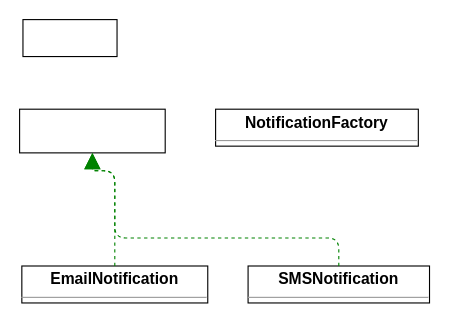
The diagram is 449 pixels wide and 323 high, and some of its shapes have lost their labels. The box of each missing label's shape, as (x1, y1, x2, y2) in pixels:
<<interface>> Notification: (18, 108, 165, 153)
Main: (22, 18, 117, 57)
